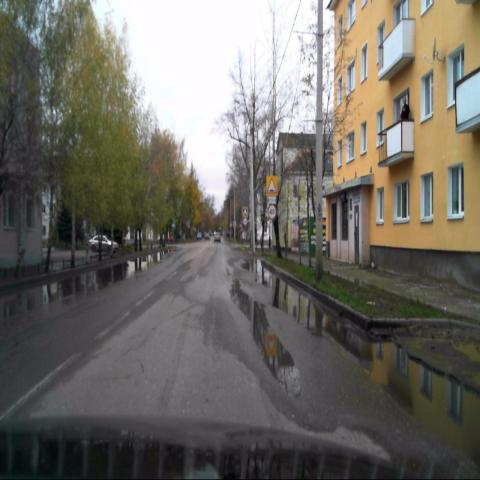1_17: (266, 176, 277, 196)
